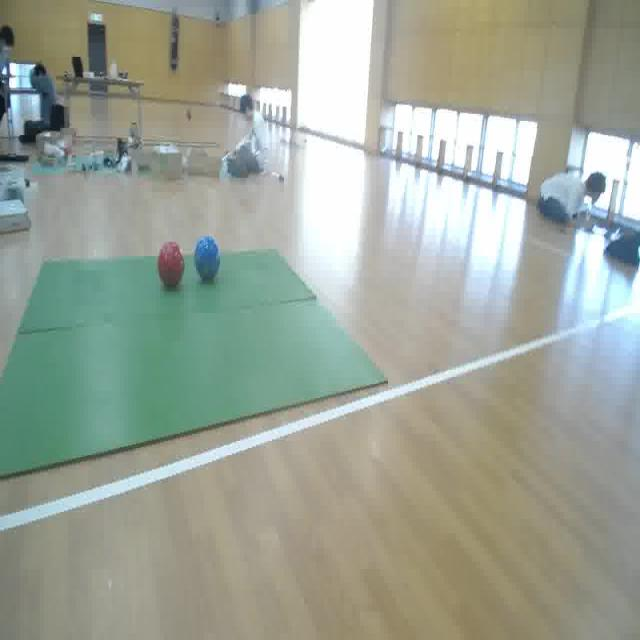red_ball: (193, 232, 221, 282)
